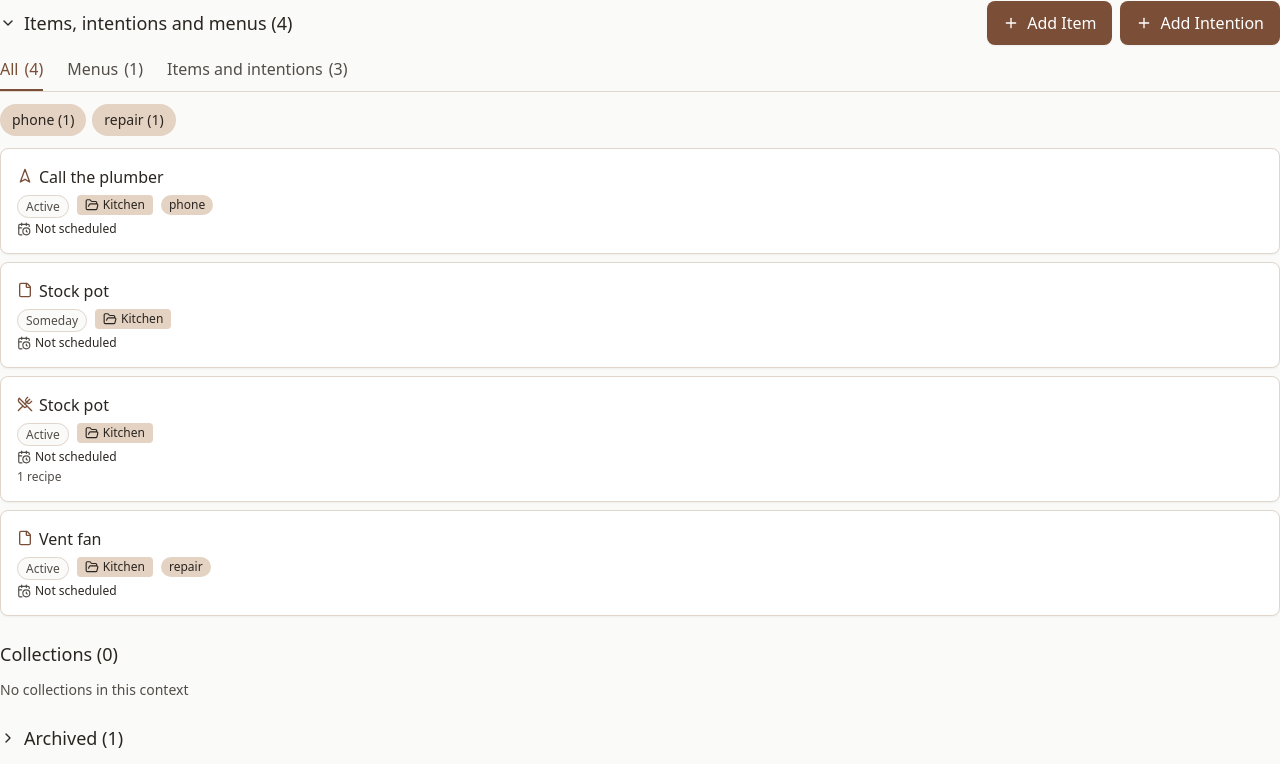
it: ContextDetailView: groups › archived groups are listed with the archived records
The image size is (1280, 764).
(page scrolled)
Click the button "Archived (1)": (62,738) [0, 724, 123, 752]
(page scrolled)
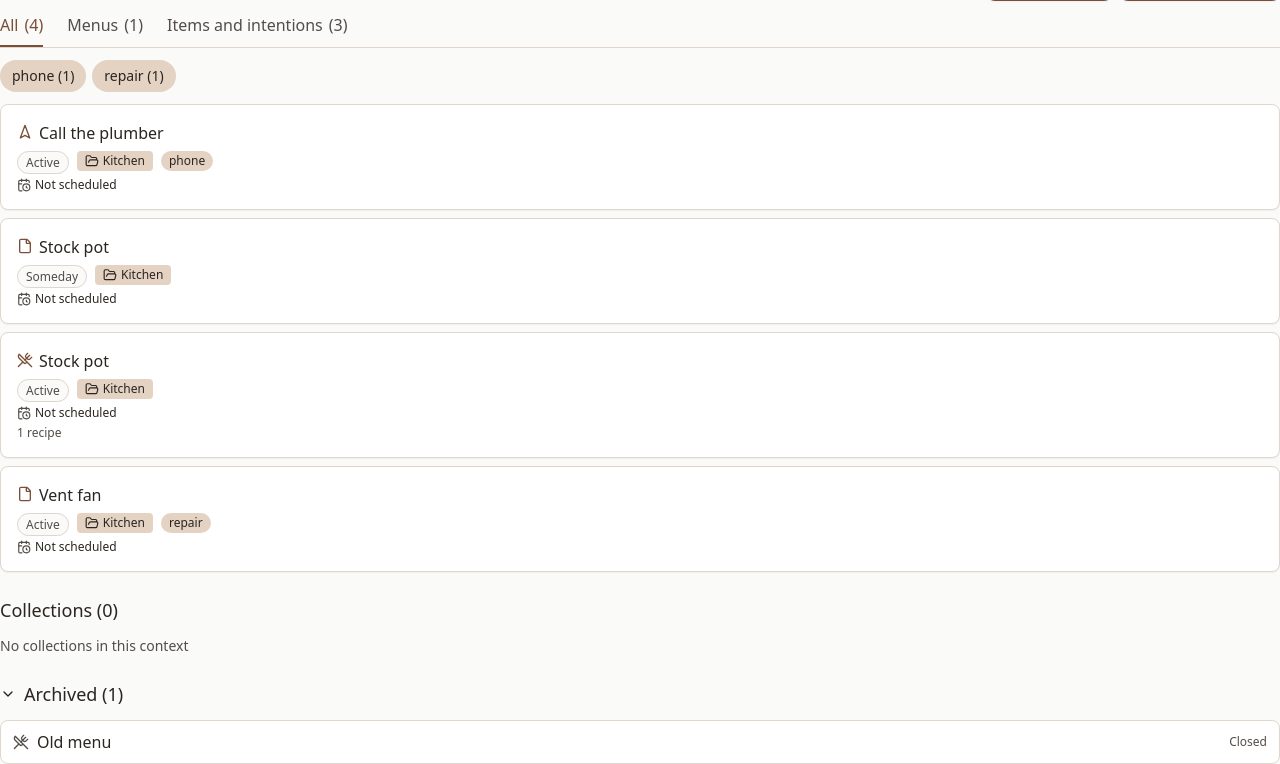
Now the text "Old menu" is shown, box [37, 731, 111, 753]
